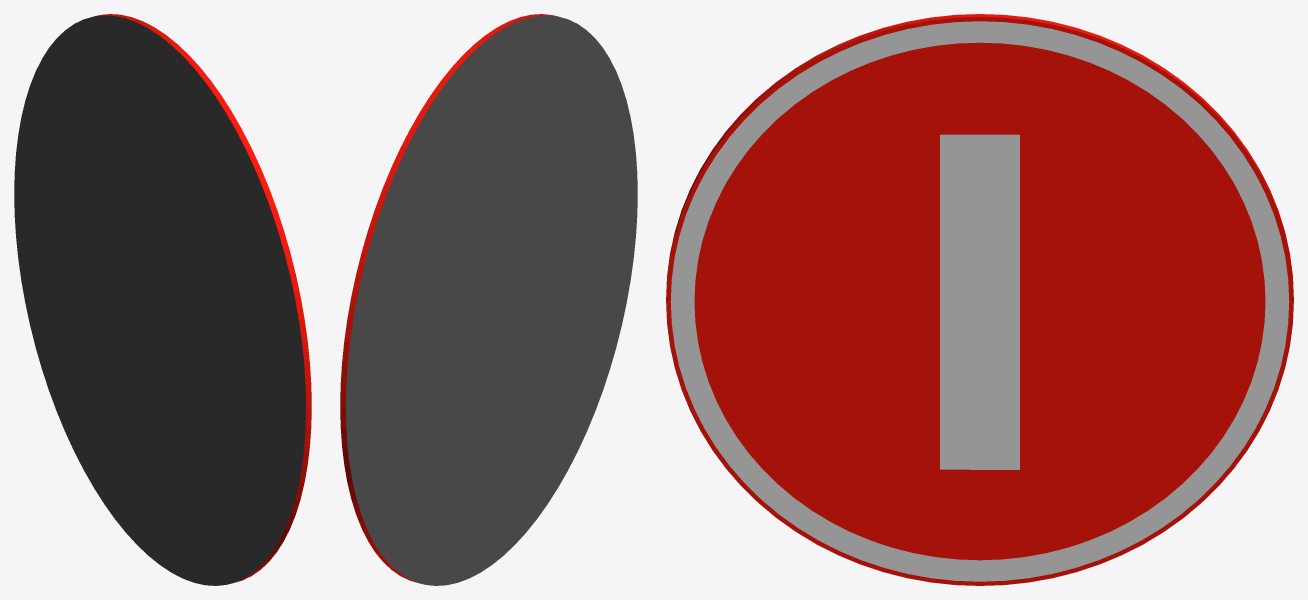
Rendered from 禁止驶入.gltf.
The picture shows the model from 3 angles, left to right: view 1: azimuth 30°, elevation 25°; view 2: azimuth 150°, elevation 25°; view 3: azimuth 270°, elevation 25°; orthographic projection. The views are drawn at different scales.
Parts seen in each view (by area): view 1: 圆环; view 2: 圆环; view 3: 圆环.
Boxes of the visible parts, x1,y1,x2,y2 form: 圆环: (14,14,311,585); 圆环: (340,14,637,585); 圆环: (666,14,1293,585).
Bounding box in the file's own units: 0.009 × 0.8 × 0.8.
